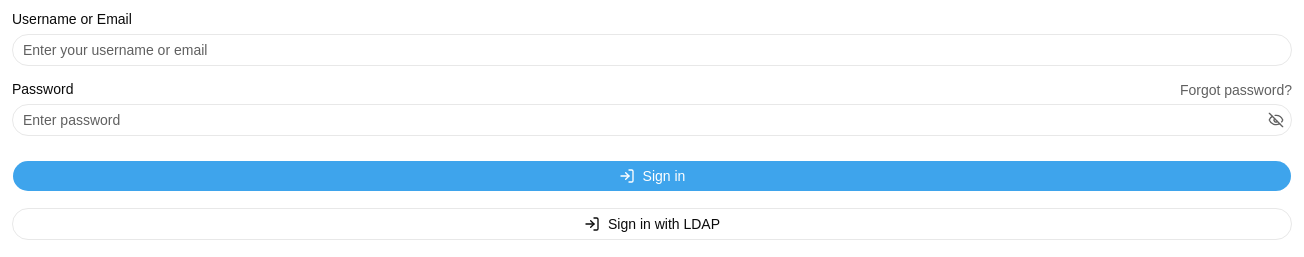
an in-flight LDAP request disables both login actions and a failed request restores them
Type "directory-user" into the field labelled "Username or Email". click: (652, 50)
box: [12, 34, 1292, 66]
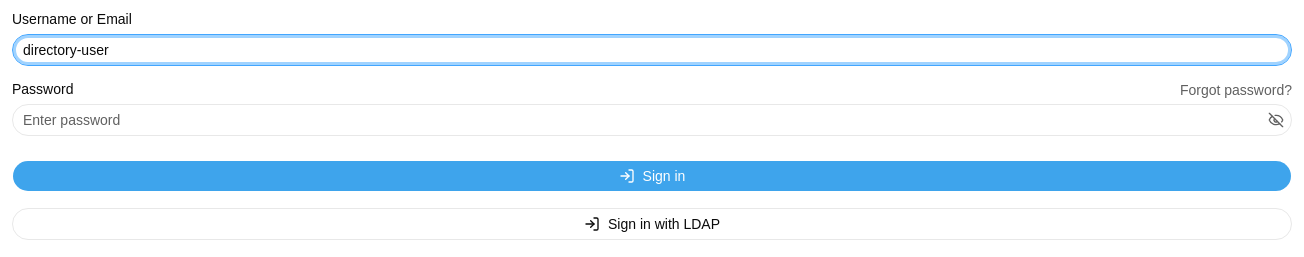
Type "directory-password" into the password field labelled "Password". click: (652, 120)
box: [12, 104, 1292, 136]
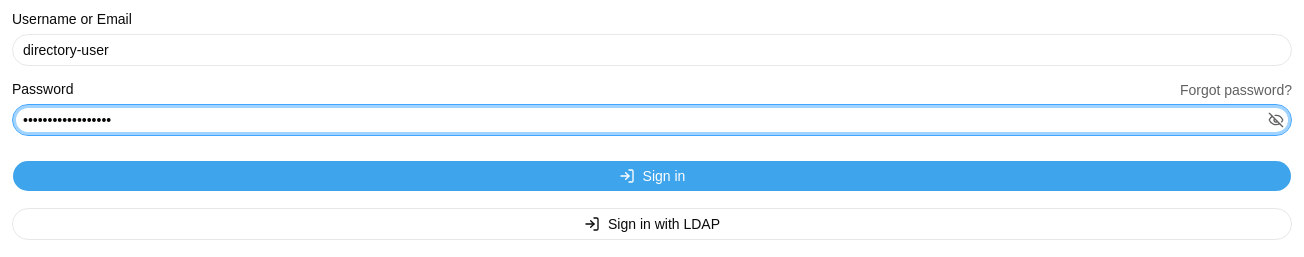
Click the button "Sign in with LDAP". click: (652, 224)
box: [12, 208, 1292, 240]
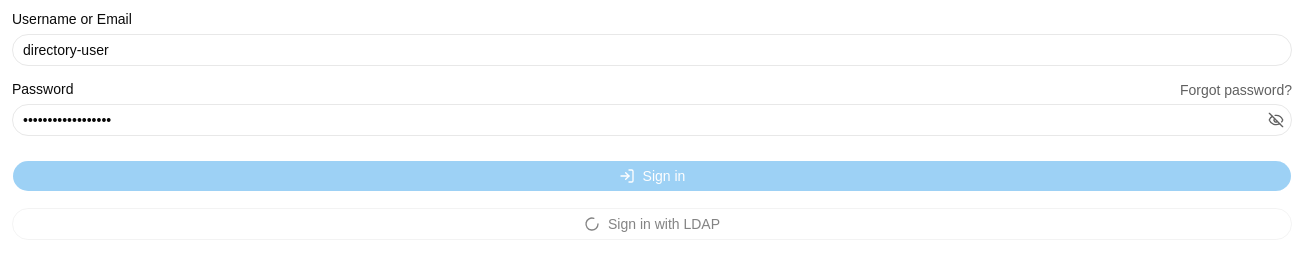
Expected: the button "Sign in with LDAP" is disabled, [12, 208, 1292, 240]
Expected: the button "Sign in" is disabled
Click the button "Sign in". click: (652, 176)
box: [12, 160, 1292, 192]
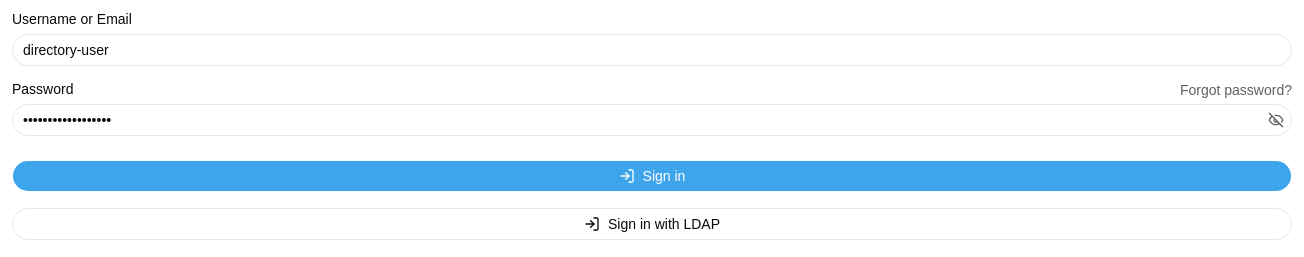
Expected: the button "Sign in with LDAP" is enabled, [12, 208, 1292, 240]
Expected: the button "Sign in" is enabled, [12, 160, 1292, 192]
